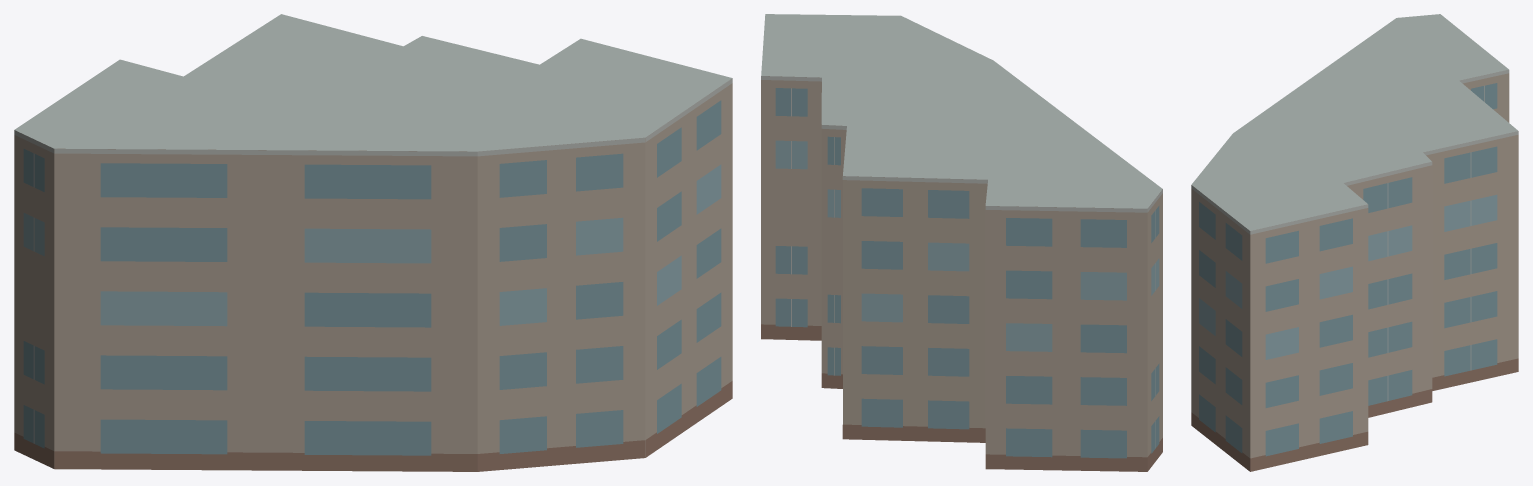
The model's file is survey-upis-32672380.glb.
3 renders of one model, left to right at view 1: azimuth 30°, elevation 25°; view 2: azimuth 150°, elevation 25°; view 3: azimuth 270°, elevation 25°, orthographic. The views are drawn at different scales.
Visible parts, largest first — view 1: survey-upis-32672380.tmp; view 2: survey-upis-32672380.tmp; view 3: survey-upis-32672380.tmp.
Boxes of the visible parts, left/top/right/bottom form: survey-upis-32672380.tmp: left=14, top=14, right=732, bottom=471; survey-upis-32672380.tmp: left=761, top=14, right=1162, bottom=471; survey-upis-32672380.tmp: left=1191, top=14, right=1518, bottom=471.
Bounding box in the file's own units: 31.14 × 16.1 × 19.84.
